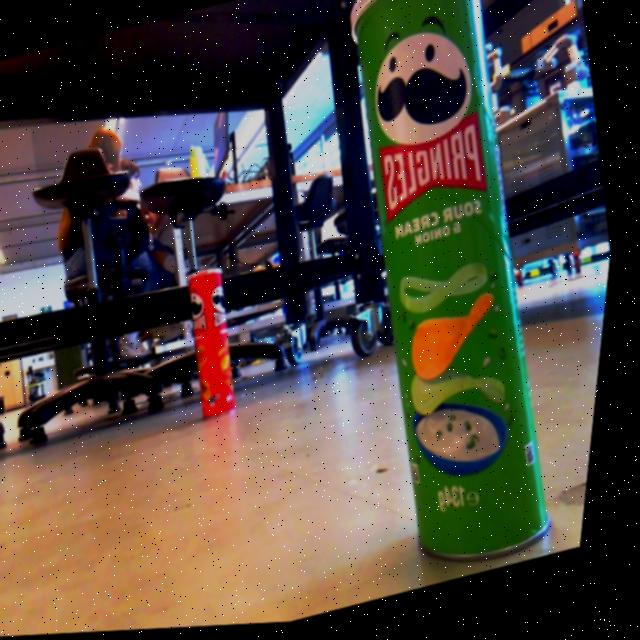greenpringles: (269, 0, 622, 604)
redpringles: (160, 251, 273, 437)
